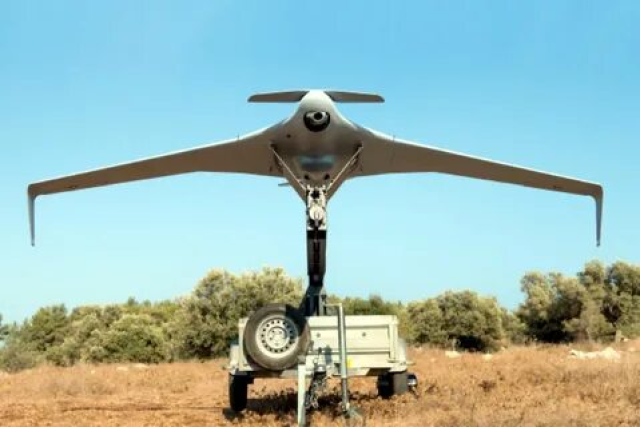military drone: (27, 88, 605, 246)
